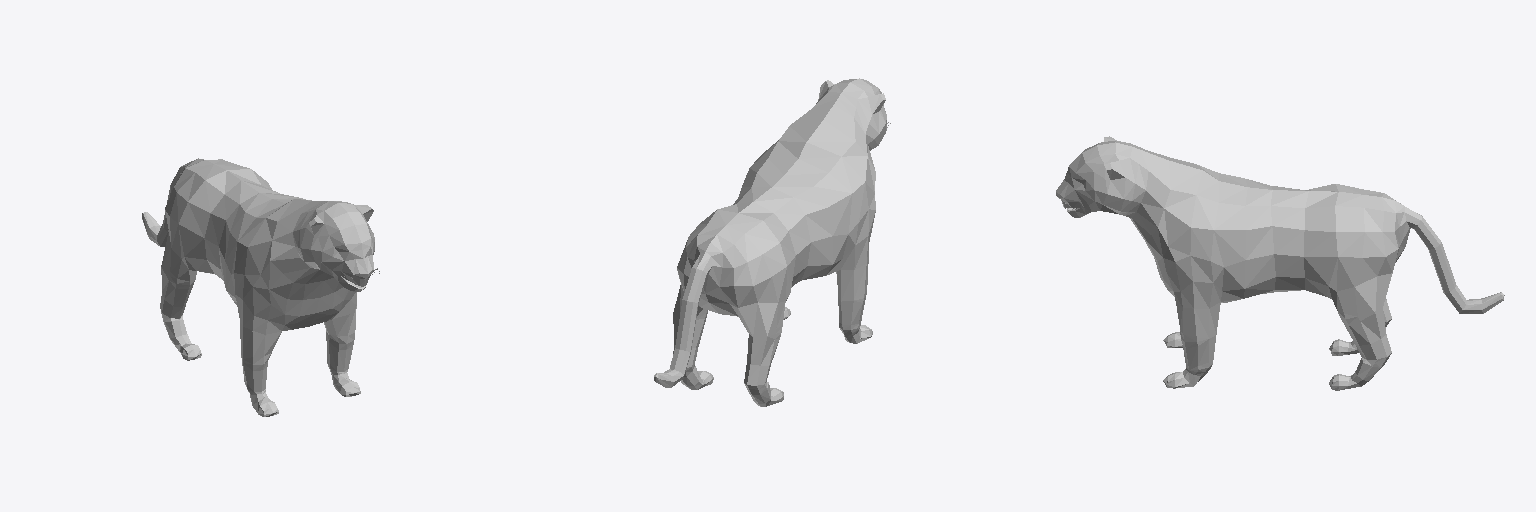
Rendered from tiger.obj.
3 renders of one model, left to right at view 1: azimuth 30°, elevation 25°; view 2: azimuth 150°, elevation 25°; view 3: azimuth 270°, elevation 25°, orthographic.
Parts seen in each view (by area): view 1: tigermouse_grp1_grp2.004; view 2: tigermouse_grp1_grp2.004; view 3: tigermouse_grp1_grp2.004.
Part boxes in pixels (x1,y1,x2,y2): tigermouse_grp1_grp2.004: (142, 158, 379, 416); tigermouse_grp1_grp2.004: (654, 78, 890, 406); tigermouse_grp1_grp2.004: (1056, 136, 1504, 390).
Bounding box in the file's own units: 2.15 × 4.1 × 7.35.